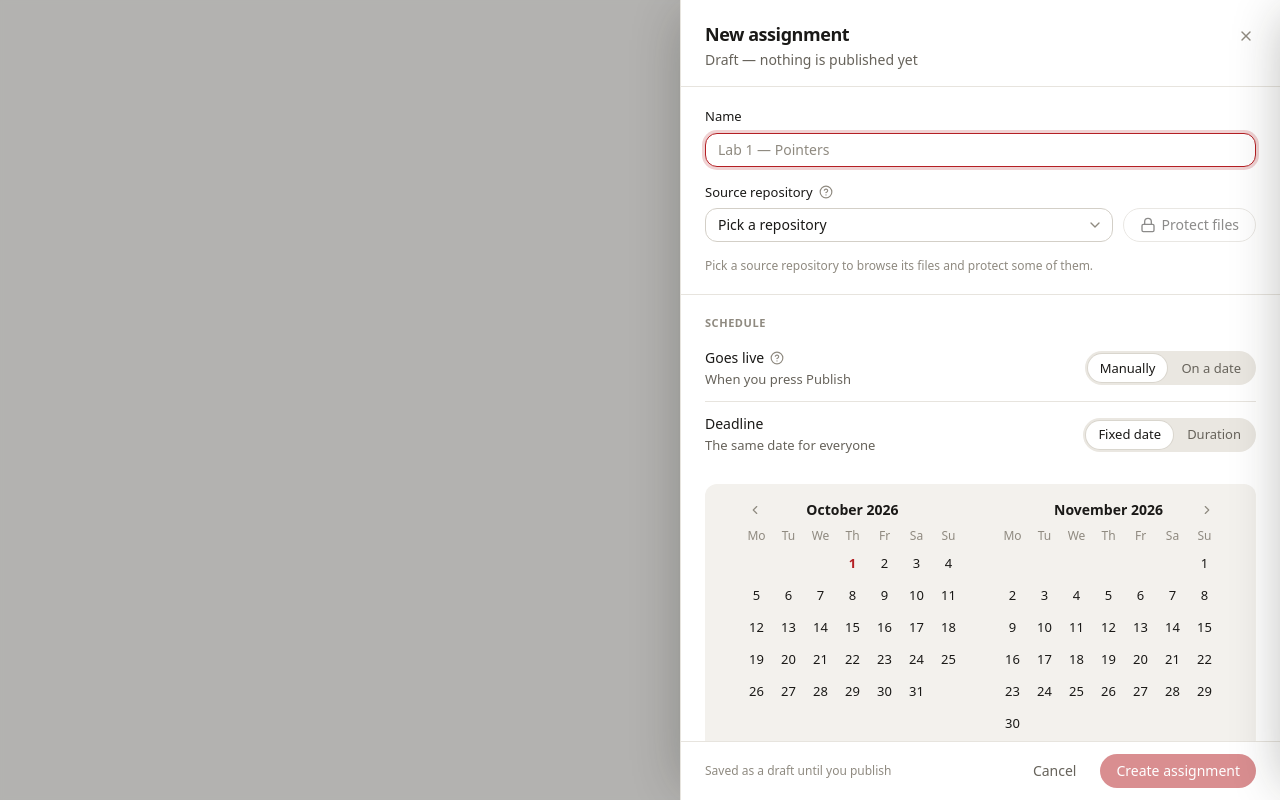
Test: AssignmentForm guard › refuses to submit until a source repository and a deadline are both set
Expected: the button "Create assignment" is disabled, left=1100, top=754, right=1256, bottom=788
Select "labo-02-quadratic" in the dropdown labelled "Source repository". click: coordinates (909, 225)
box: left=705, top=208, right=1112, bottom=242
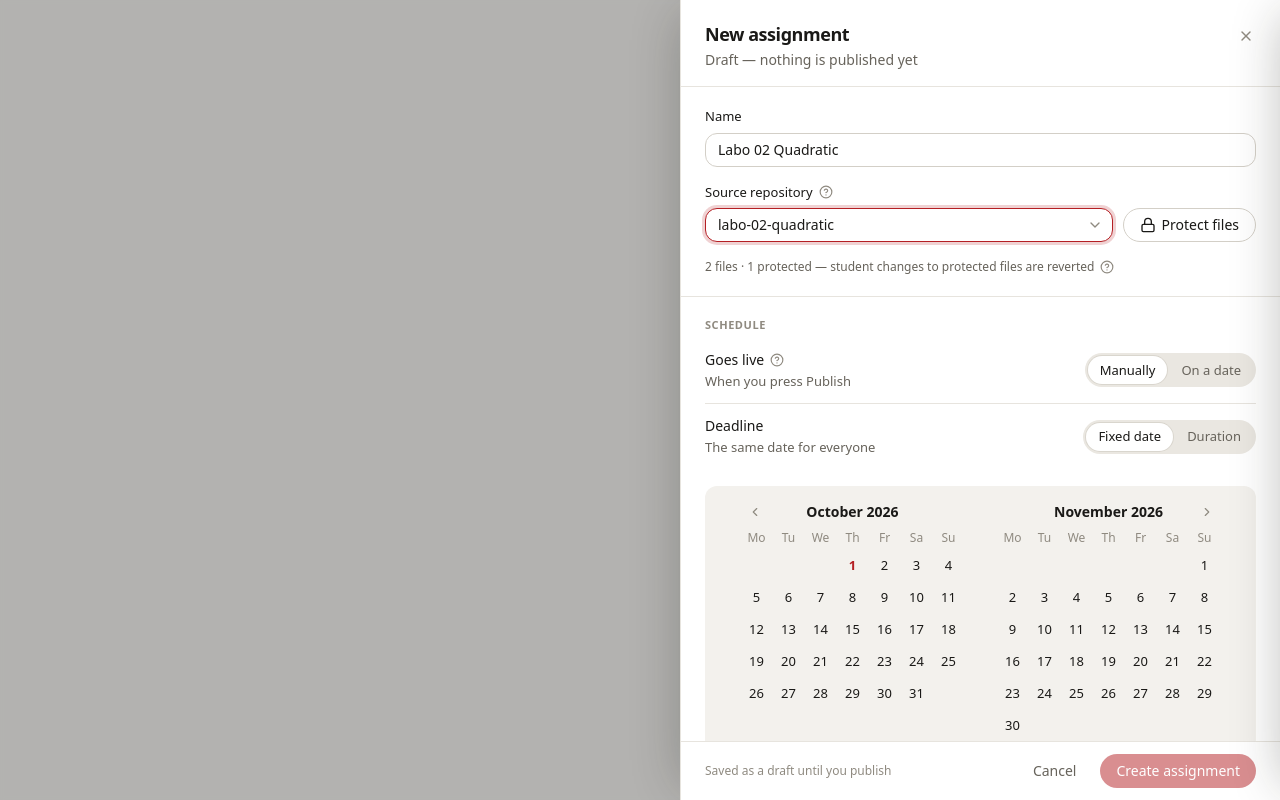
Expected: the button "Create assignment" is disabled, left=1100, top=754, right=1256, bottom=788
Expected: the text "2 files · 1 protected" is shown, left=705, top=258, right=1116, bottom=276
Click the button "15" below "October". click: coordinates (852, 630)
box: left=836, top=614, right=868, bottom=646
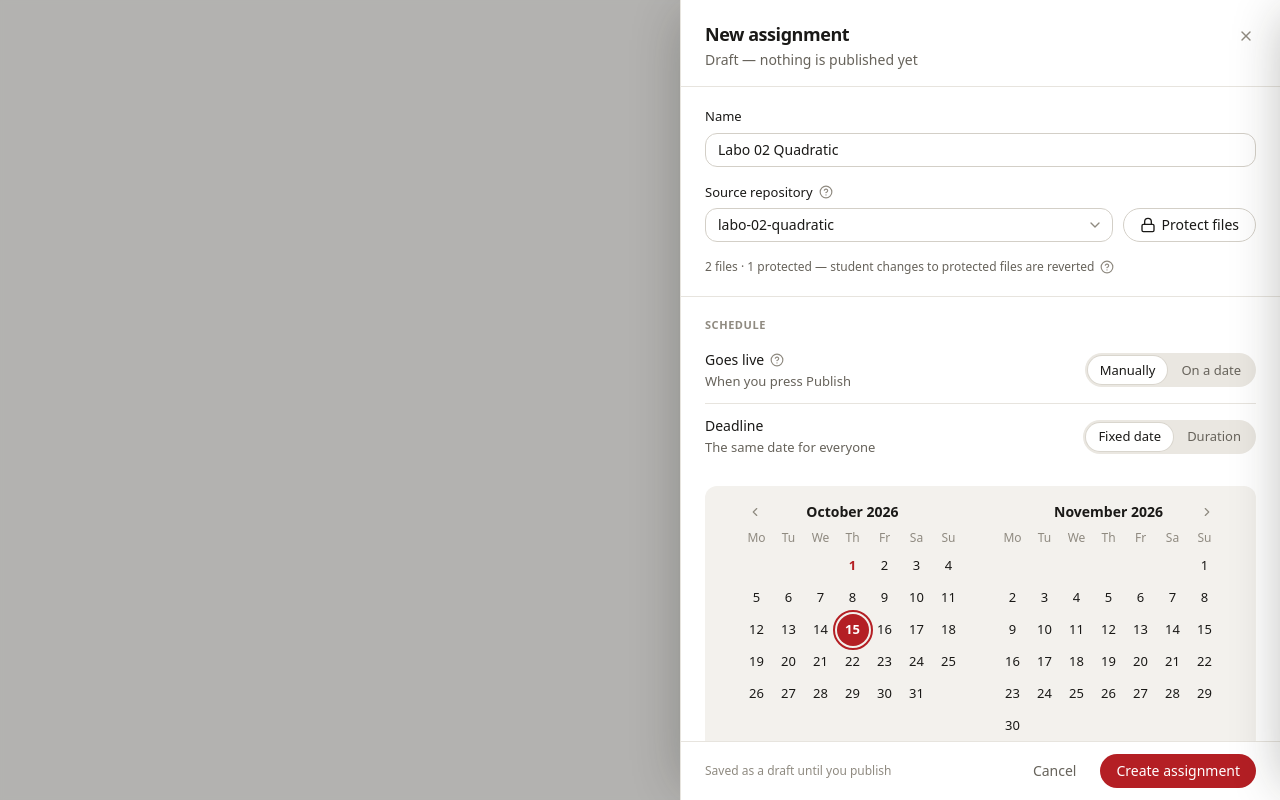
Expected: the button "Create assignment" is enabled, left=1100, top=754, right=1256, bottom=788
